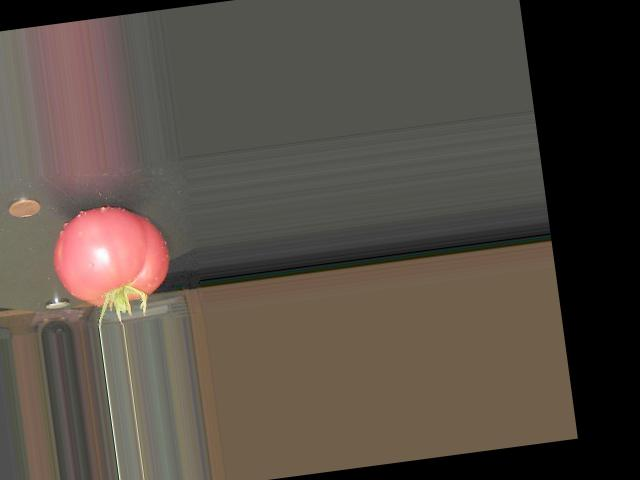tomato: (48, 198, 175, 311)
